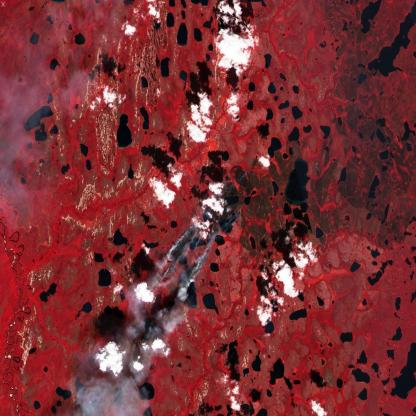fire: (233, 164, 255, 189), (231, 208, 243, 227)
